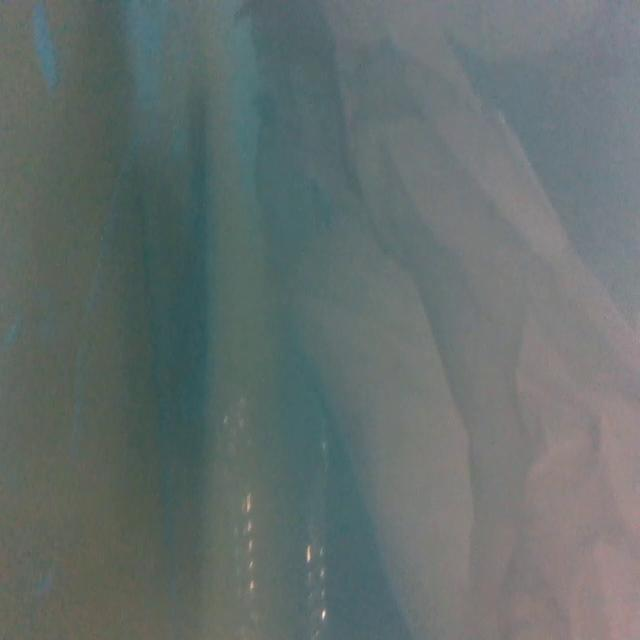plastic bags: (229, 2, 640, 638)
plastic bottle: (218, 372, 340, 640)
